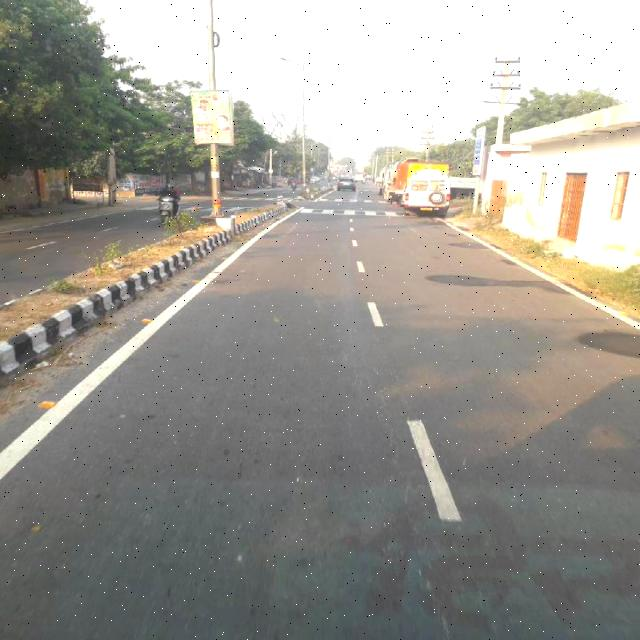D00: (358, 348, 444, 622)
